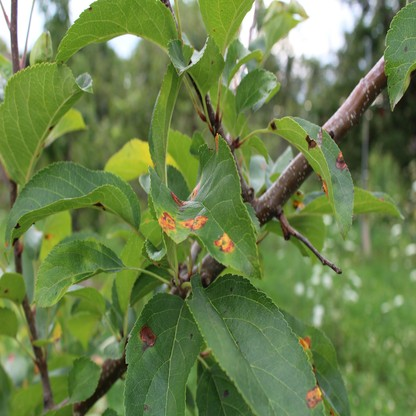rust: (178, 215, 207, 230), (139, 323, 156, 346), (215, 233, 233, 253), (306, 386, 322, 407), (159, 212, 175, 232), (317, 171, 329, 197), (191, 173, 203, 199), (293, 189, 306, 210), (171, 191, 188, 206), (299, 335, 312, 351), (336, 152, 346, 171), (214, 134, 219, 155), (45, 232, 52, 238), (4, 241, 8, 248)
